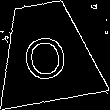O_N: (21, 23, 72, 81)
